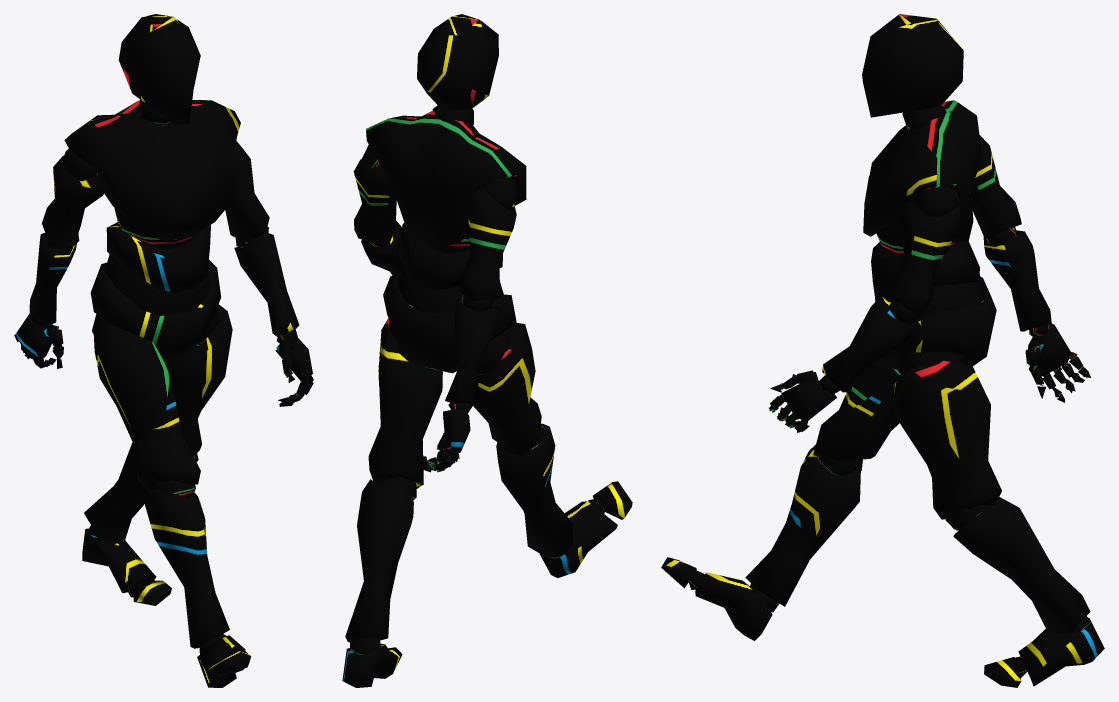
The model's file is y-bot-origin_000005.obj.
3 views of the same model, side by side, from view 1: azimuth 30°, elevation 25°; view 2: azimuth 150°, elevation 25°; view 3: azimuth 270°, elevation 25° (orthographic). The views are drawn at different scales.
Parts seen in each view (by area): view 1: Alpha_Surface_Alpha_SurfaceMesh, Alpha_Joints_Alpha_JointsMesh; view 2: Alpha_Surface_Alpha_SurfaceMesh, Alpha_Joints_Alpha_JointsMesh; view 3: Alpha_Surface_Alpha_SurfaceMesh, Alpha_Joints_Alpha_JointsMesh.
Boxes of the visible parts, bbox=[...] form: Alpha_Surface_Alpha_SurfaceMesh: bbox=[16, 14, 313, 687]; Alpha_Joints_Alpha_JointsMesh: bbox=[14, 100, 313, 655]; Alpha_Surface_Alpha_SurfaceMesh: bbox=[342, 14, 632, 687]; Alpha_Joints_Alpha_JointsMesh: bbox=[350, 105, 604, 655]; Alpha_Surface_Alpha_SurfaceMesh: bbox=[661, 14, 1104, 687]; Alpha_Joints_Alpha_JointsMesh: bbox=[688, 105, 1090, 677].
Size of the model in its own units: 0.5388 by 1.74 by 1.08.
